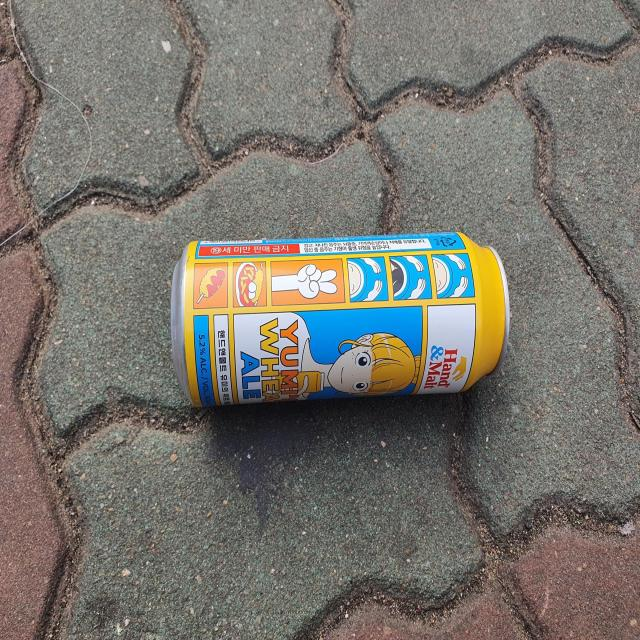can: (170, 232, 511, 408)
